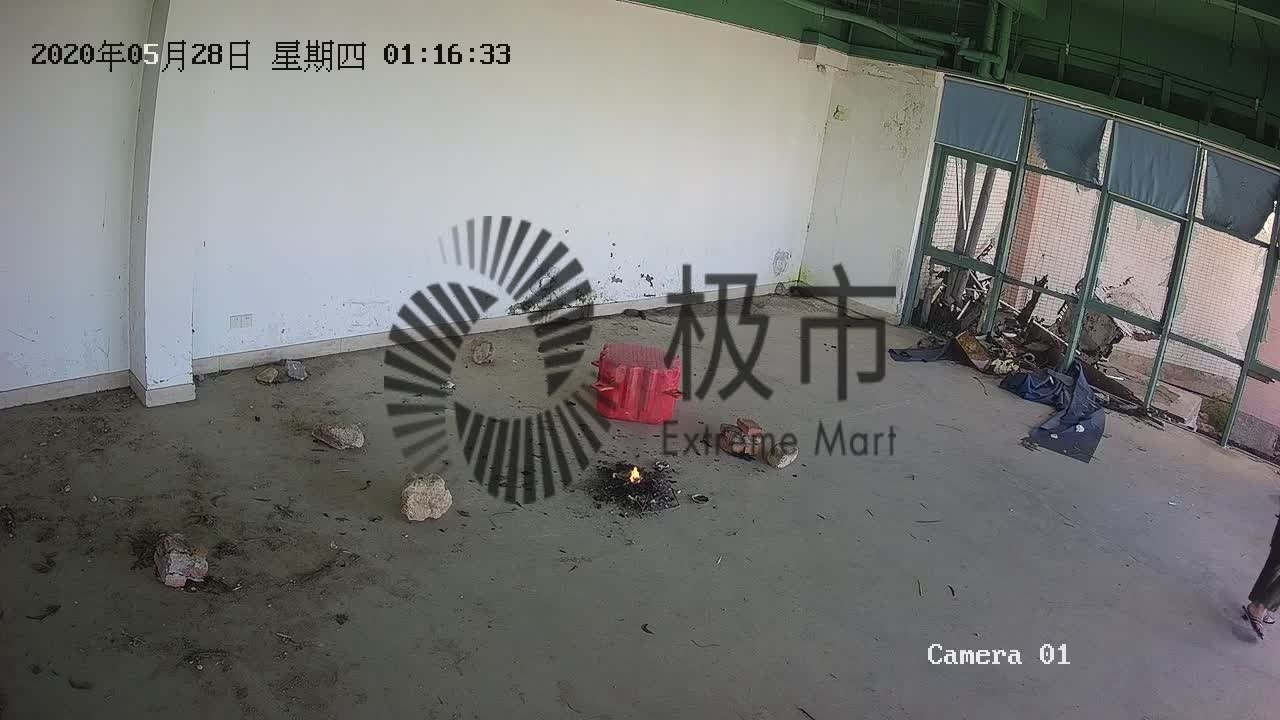fire: (621, 455, 652, 493)
